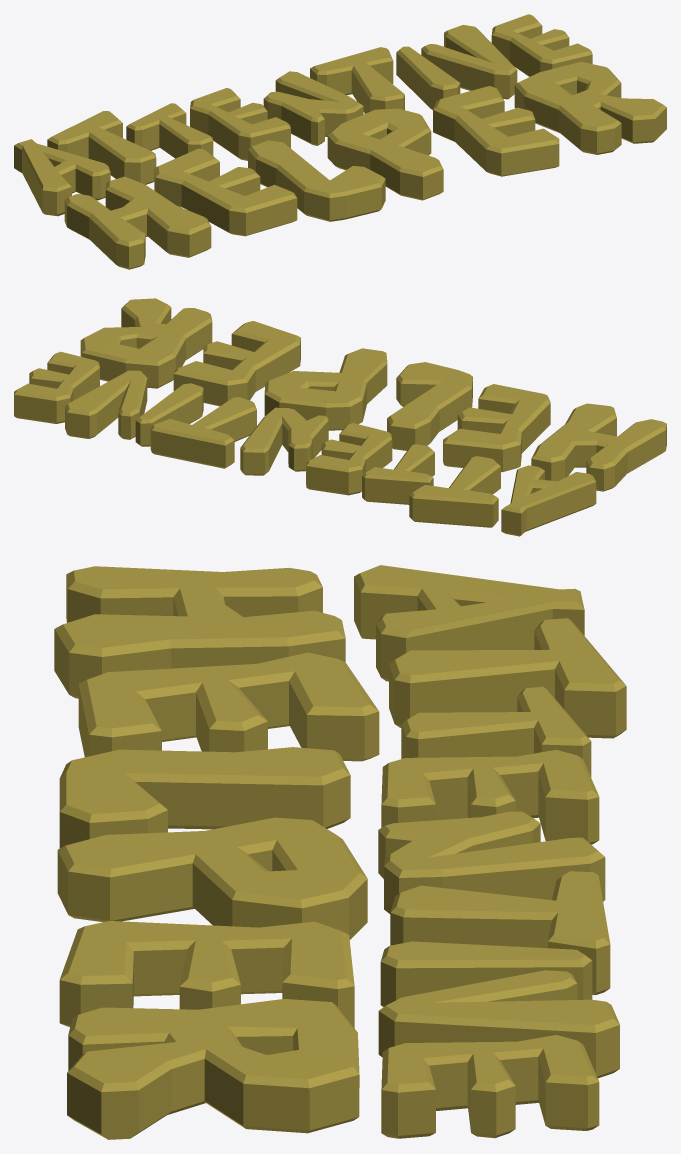
Rendered from title screen letters.gltf.
3 renders of one model, top to bottom at view 1: azimuth 30°, elevation 25°; view 2: azimuth 150°, elevation 25°; view 3: azimuth 270°, elevation 25°, orthographic. The views are drawn at different scales.
Visible parts, largest first — view 1: R, H, E3, E4, P, L, A, N, E1, T1, V, T3 (+3 smaller); view 2: R, H, E4, E3, P, L, T3, T1, A, E1, N, E2 (+3 smaller); view 3: R, P, H, E3, E4, L, E2, T1, A, N, E1, V (+3 smaller).
Part boxes in pixels (x1,y1,x2,y2): R: (514,61,666,154); H: (64,176,211,269); E3: (154,148,297,236); E4: (433,86,559,176); P: (327,108,443,200); L: (248,140,385,221); A: (14,139,110,216); N: (263,71,363,145); E1: (190,88,290,160); T1: (47,111,156,184); V: (421,25,517,99); T3: (310,47,404,113); R: (80,298,212,388); H: (531,403,666,491); E4: (173,321,300,406); E3: (443,384,550,472); P: (264,348,387,430); L: (387,362,472,450); T3: (150,397,256,468); T1: (409,456,500,527); A: (501,465,596,536); E1: (306,423,392,495); N: (240,407,328,475); E2: (14,351,99,423); R: (67,999,359,1139); P: (57,817,367,939); H: (54,566,345,698); E3: (78,652,379,761); E4: (59,921,354,1027); L: (59,747,350,848); E2: (381,1035,599,1138); T1: (389,618,626,738); A: (354,565,584,681); N: (378,811,605,913); E1: (381,749,599,844); V: (378,970,619,1078).
Bounding box in the file's own units: 3.08 × 0.1629 × 1.42.
